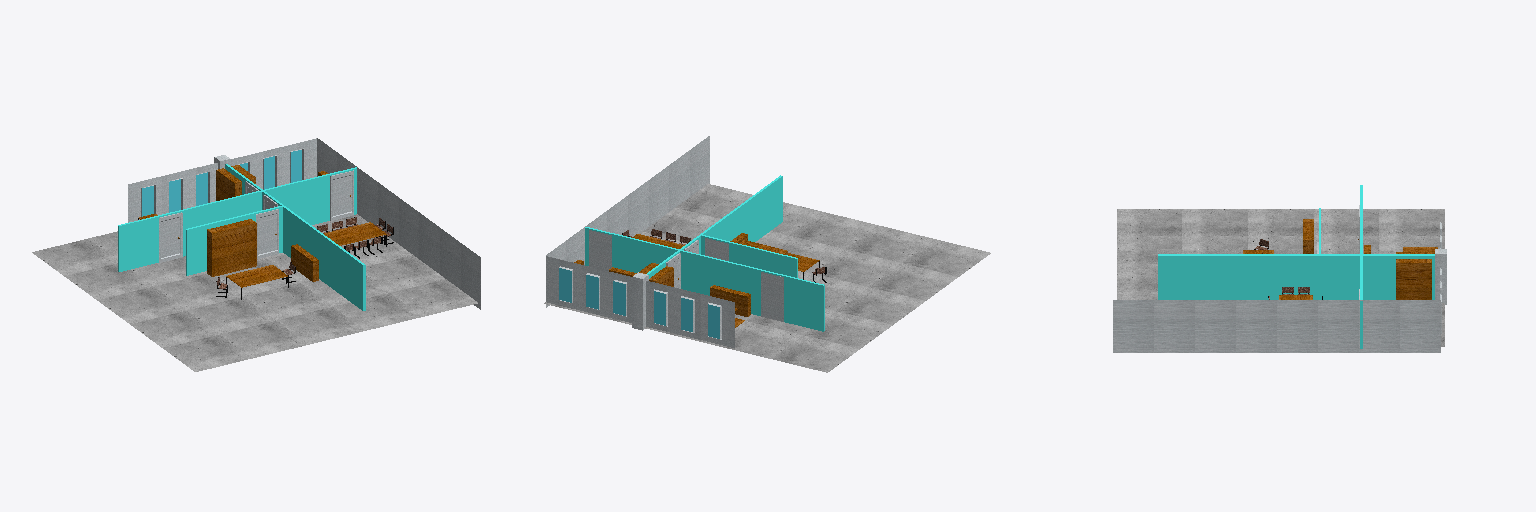
The picture shows the model from 3 angles: view 1: azimuth 30°, elevation 25°; view 2: azimuth 150°, elevation 25°; view 3: azimuth 270°, elevation 25°; orthographic projection.
Visible parts, largest first — view 1: Plane001, Plane003, Box066, Box067, Plane004, Plane002, Box071, Box064, Box075, Box074, Box073, Box076 (+4 smaller); view 2: Plane001, Plane003, Box066, Plane004, Plane002, Box067, Box064, Box075, Box073, Box074, Box062, Box091; view 3: Plane003, Plane001, Box067, Box065, Box070, Box062.
Boxes of the visible parts, x1,y1,x2,y2 form: Plane001: [32, 214, 477, 371]; Plane003: [317, 138, 480, 309]; Box066: [118, 191, 261, 271]; Box067: [262, 191, 365, 310]; Plane004: [128, 163, 217, 222]; Plane002: [231, 138, 316, 189]; Box071: [207, 219, 256, 276]; Box064: [261, 167, 356, 224]; Box075: [186, 206, 282, 275]; Box074: [330, 170, 353, 220]; Box073: [159, 212, 182, 262]; Box076: [256, 209, 278, 258]; Plane001: [544, 184, 990, 372]; Plane003: [546, 136, 709, 307]; Box066: [680, 250, 824, 331]; Plane004: [646, 281, 734, 347]; Plane002: [546, 256, 631, 322]; Box067: [680, 175, 782, 253]; Box064: [585, 227, 680, 272]; Box075: [701, 235, 797, 277]; Box073: [761, 272, 783, 321]; Box074: [589, 230, 611, 270]; Box062: [632, 272, 648, 330]; Box091: [710, 285, 750, 316]; Plane003: [1113, 300, 1440, 352]; Plane001: [1117, 209, 1444, 346]; Box067: [1158, 254, 1361, 299]; Box065: [1362, 254, 1434, 299]; Box070: [1396, 259, 1431, 299]; Box062: [1435, 249, 1446, 304].
Bounding box in the file's own units: 601 × 112 × 610.
7 materials, 4 textured.